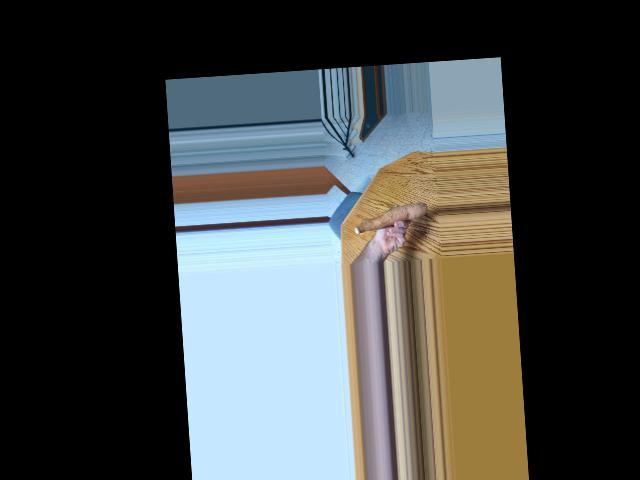sweet_potato: (353, 198, 426, 238)
